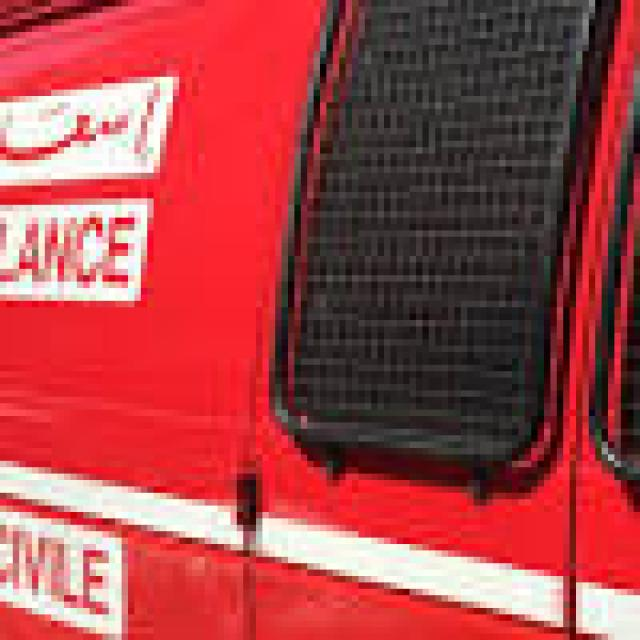ambulance: (10, 8, 631, 624)
